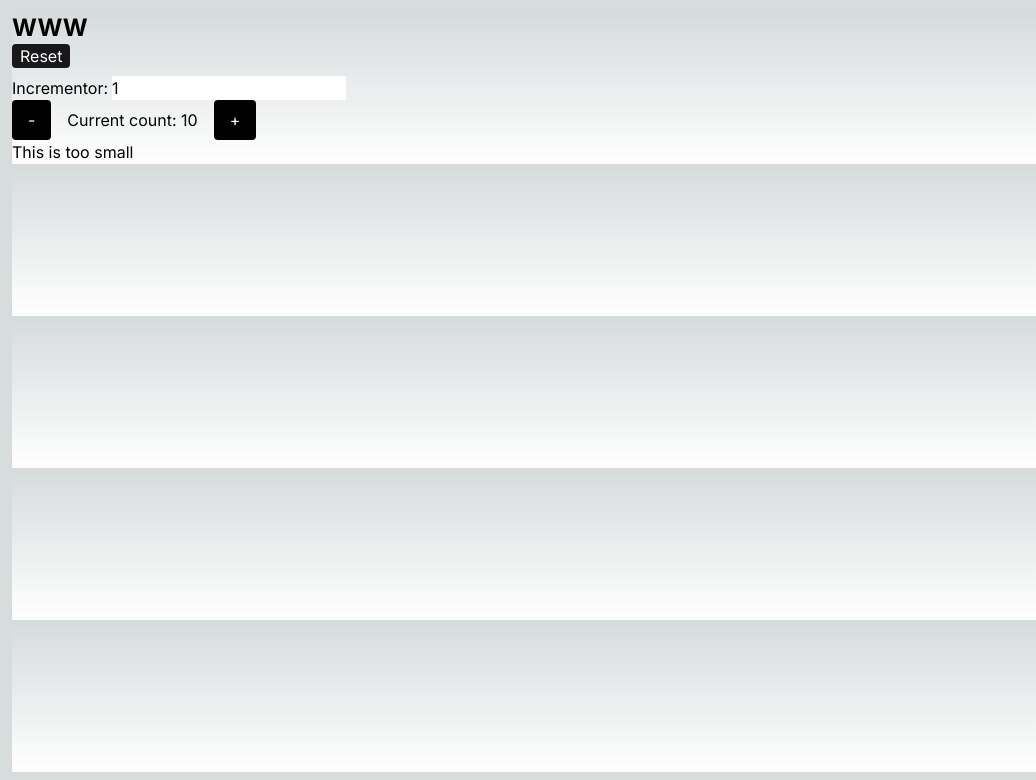
Test: Counter Component › defaultCounter = 10, description="WWW" › When the incrementor is change to 25 and the - button is clicked › Current count will be: Current count: -15
Replace the text in the number field named "inc-input" with "25" at coordinates (229, 88), box 112,76 -> 346,100
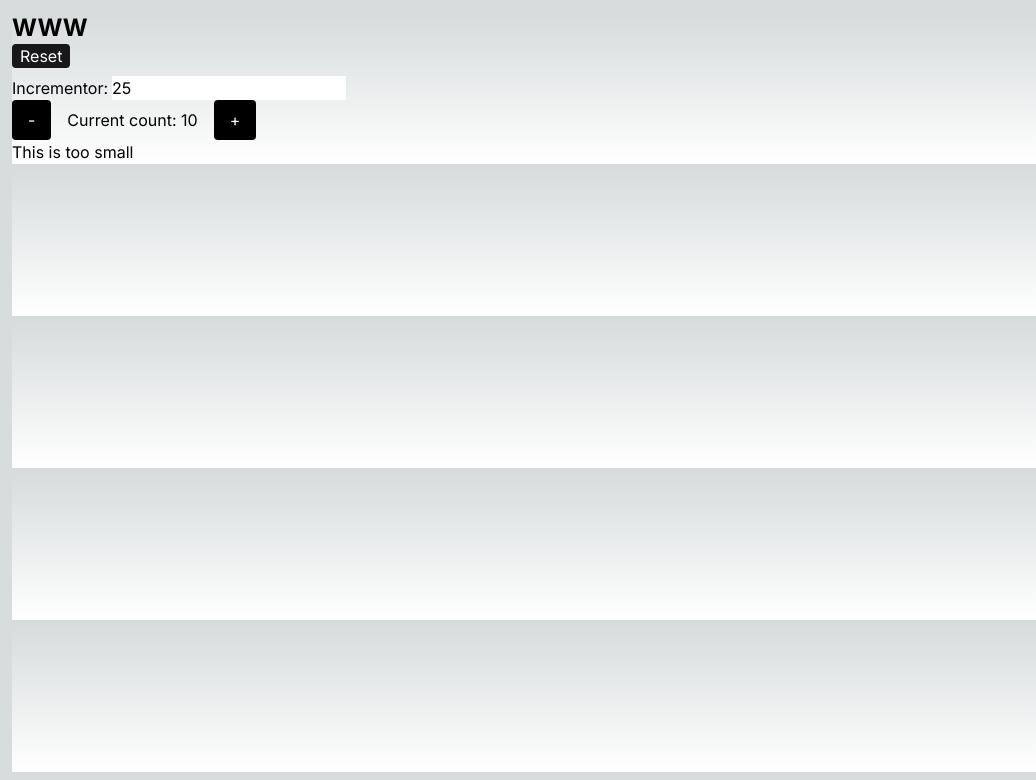
Click the button named "decrement" at coordinates (32, 120), box 12,100 -> 51,140
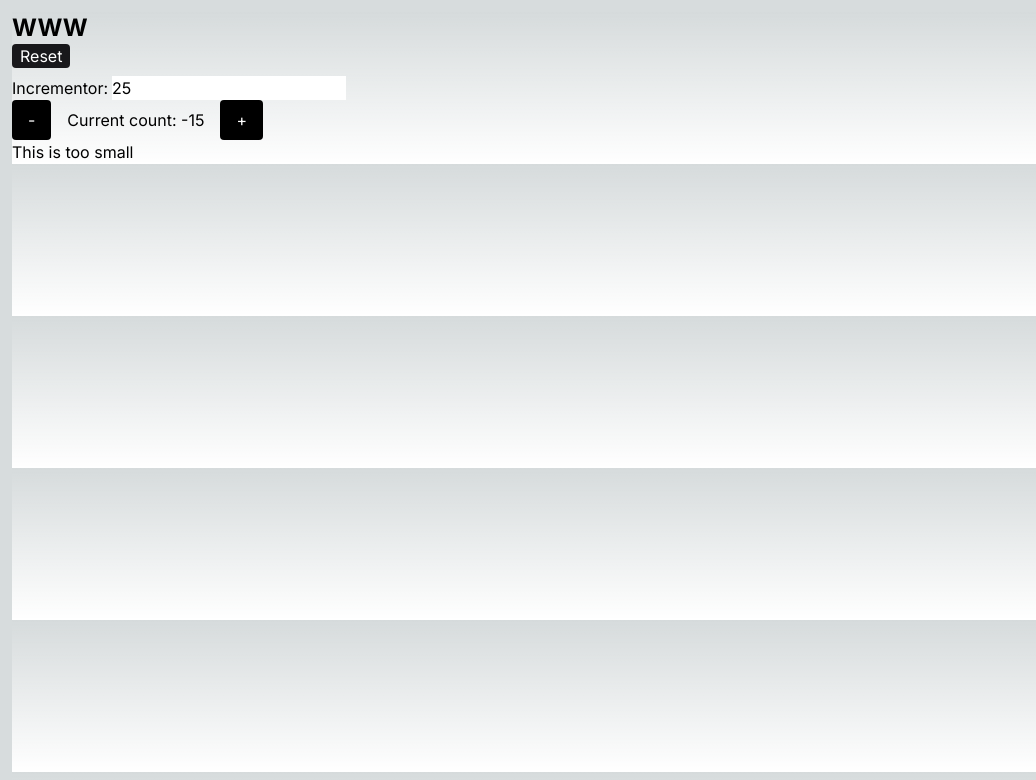
Now the text "Current count: -15" is shown, box 67,108 -> 204,132
